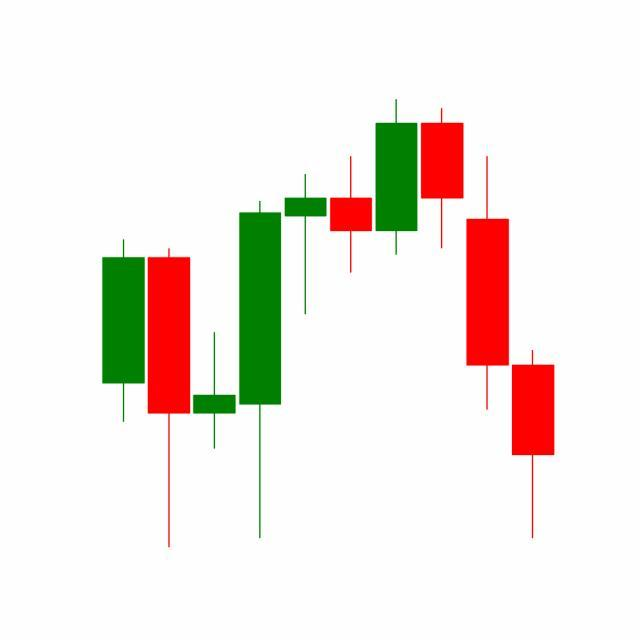Hikkake Pattern: (283, 100, 512, 416)
